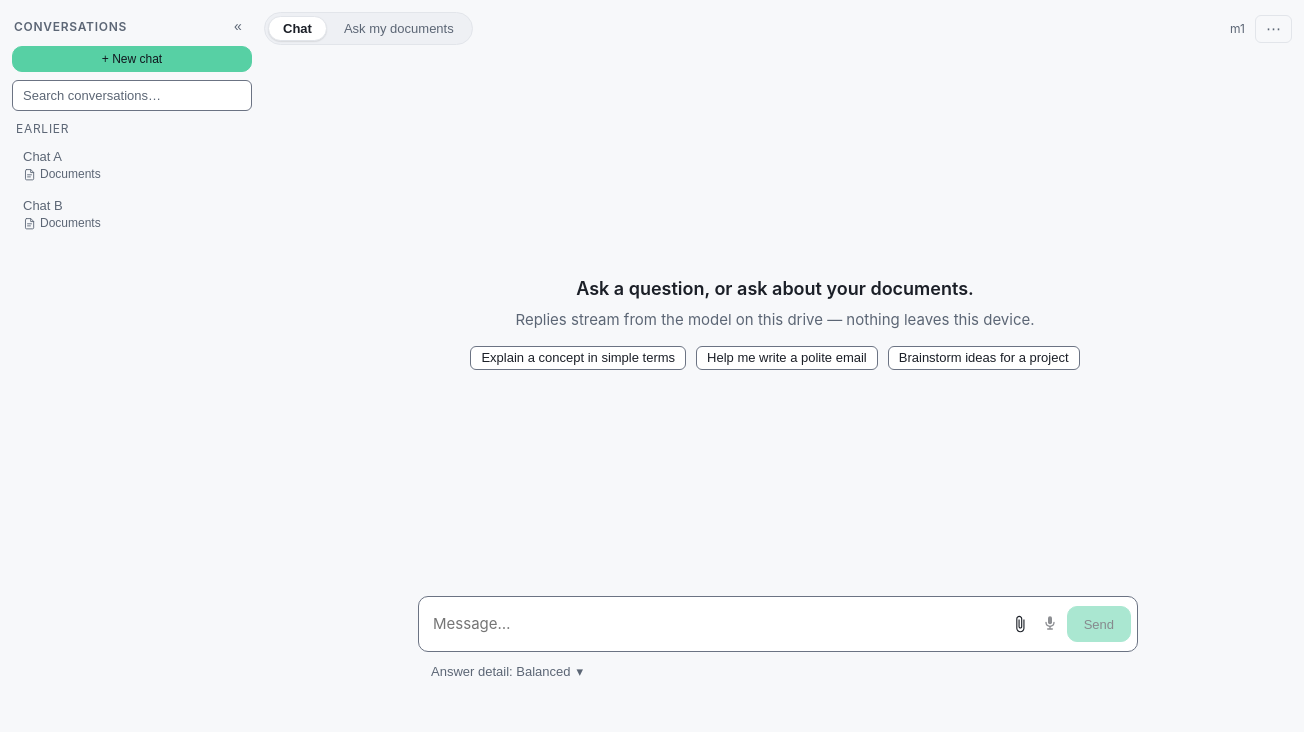
it: ChatScreen — per-run store gating (SKA-6) › shows a quiet "working in another chat" chip when a run is running elsewhere
The width and height of the screenshot is (1304, 732).
Click the text "Chat A" at [42, 156], box [23,149,62,164]
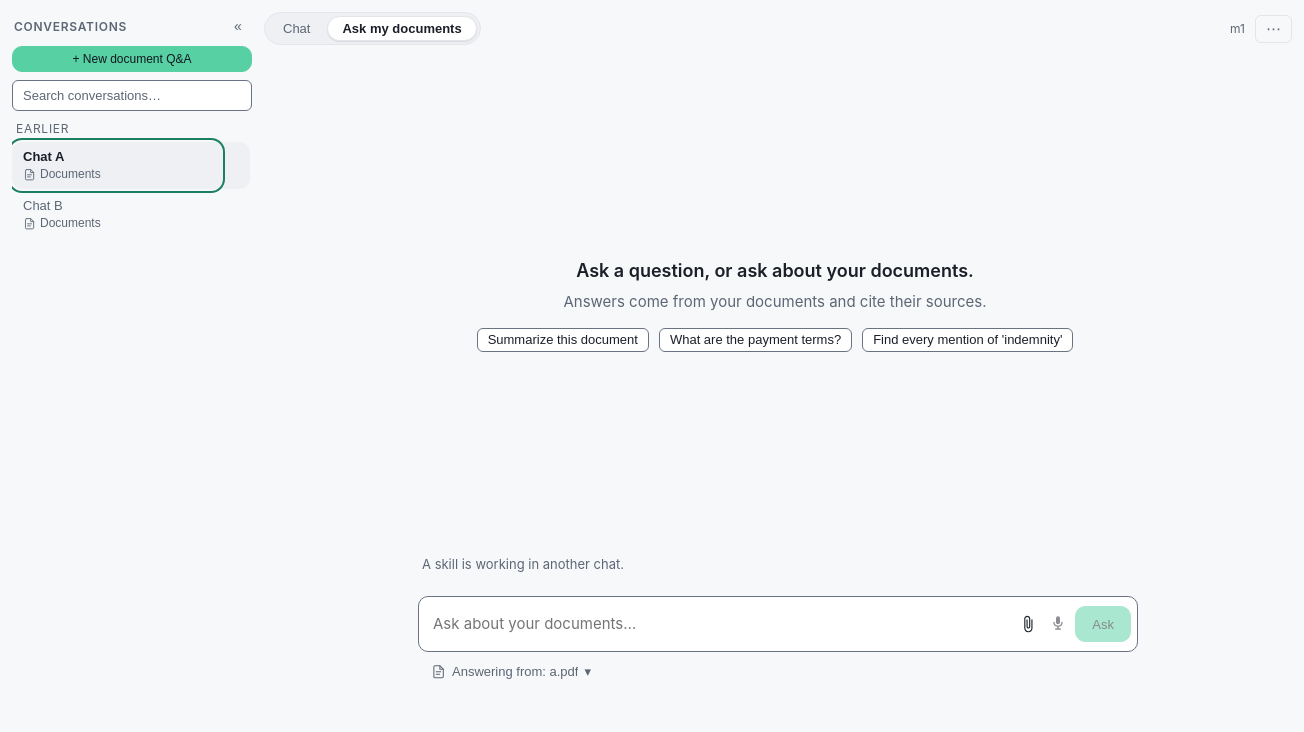
Expected: the text "A skill is working in another chat." is shown, [422,556,624,572]
